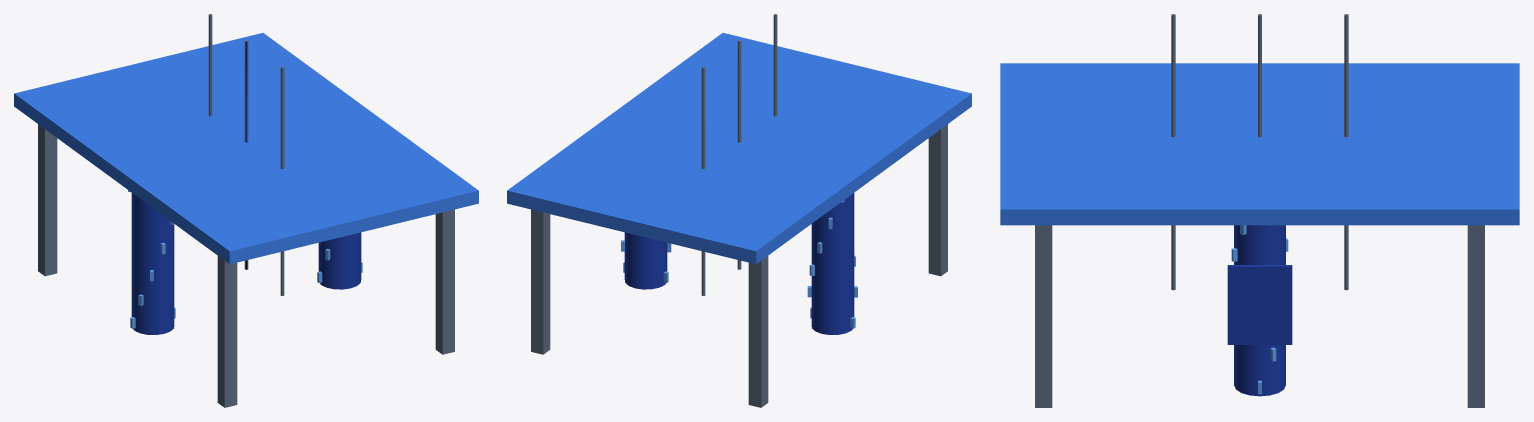
Rendered from yard-truck-wash-body-authored-atlas.glb.
3 views of the same model, side by side, from view 1: azimuth 30°, elevation 25°; view 2: azimuth 150°, elevation 25°; view 3: azimuth 270°, elevation 25° (orthographic). The views are drawn at different scales.
Parts seen in each view (by area): view 1: Authored surface.152; view 2: Authored surface.152; view 3: Authored surface.152.
Boxes of the visible parts, bbox=[...] form: Authored surface.152: bbox=[14, 14, 478, 407]; Authored surface.152: bbox=[507, 14, 971, 407]; Authored surface.152: bbox=[1000, 14, 1519, 407].
Size of the model in its own units: 8.55 by 8.3 by 12.
1 material, 1 textured.
